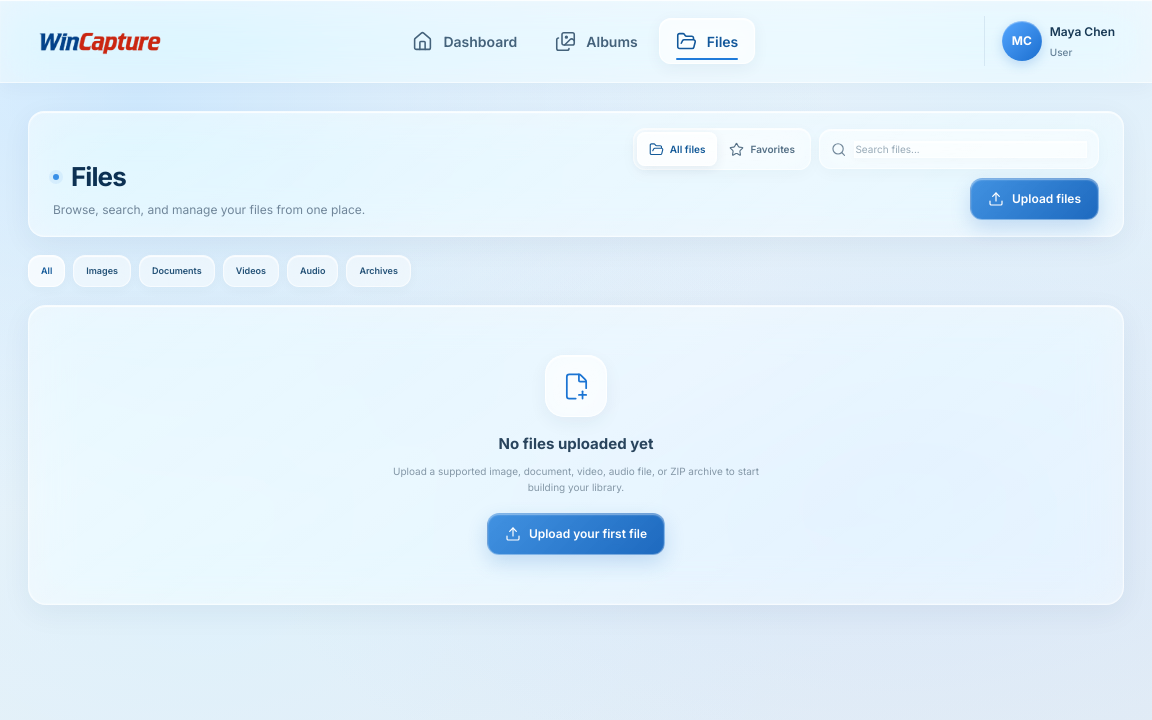
Test case: page workflows › navigates from Files to Dashboard through the workspace navigation
This screenshot has width=1152, height=720.
Expected: the heading "Files" is shown, [53,161,126,192]
Step 1. Click the link "Dashboard" → (465, 41), box [412,30,517,52]
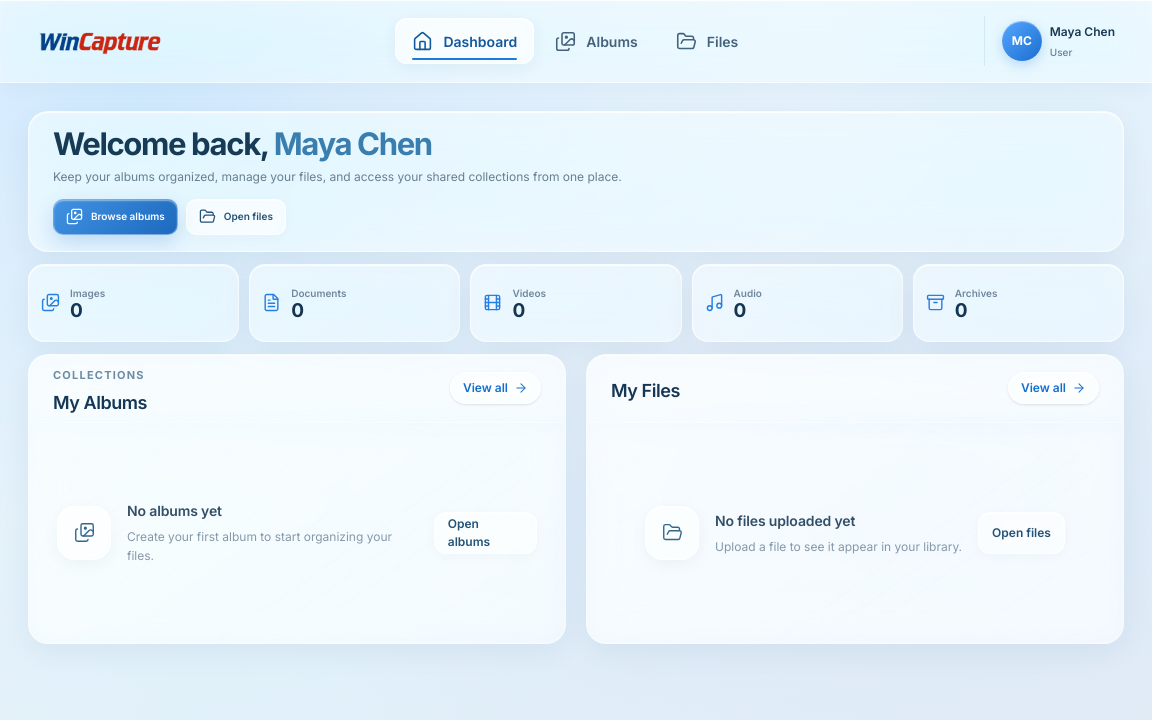
Expected: the heading "Welcome back, Maya Chen" is shown, [53,125,432,163]
